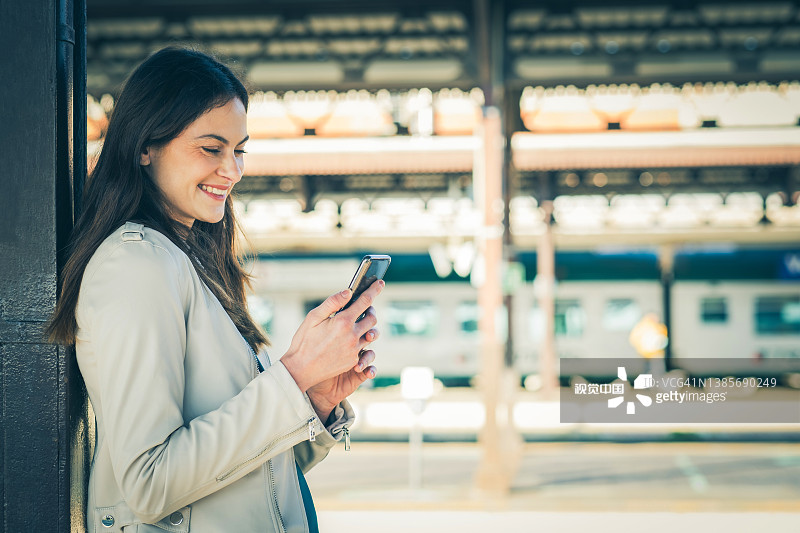reading: (269, 252, 408, 416)
